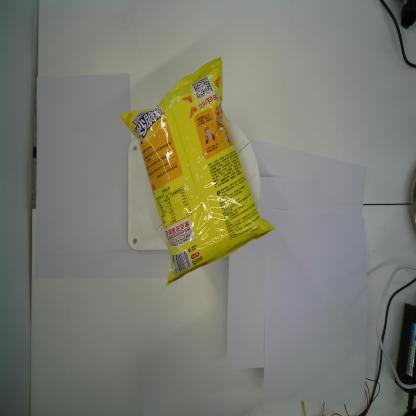Puffed Food: (118, 56, 275, 288)
